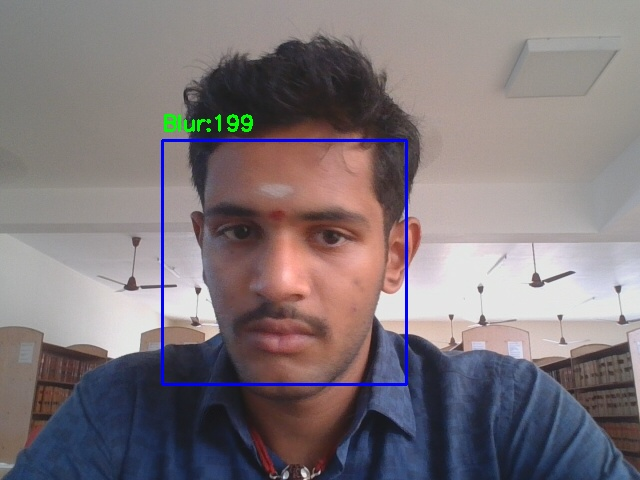real: (162, 140, 406, 384)
